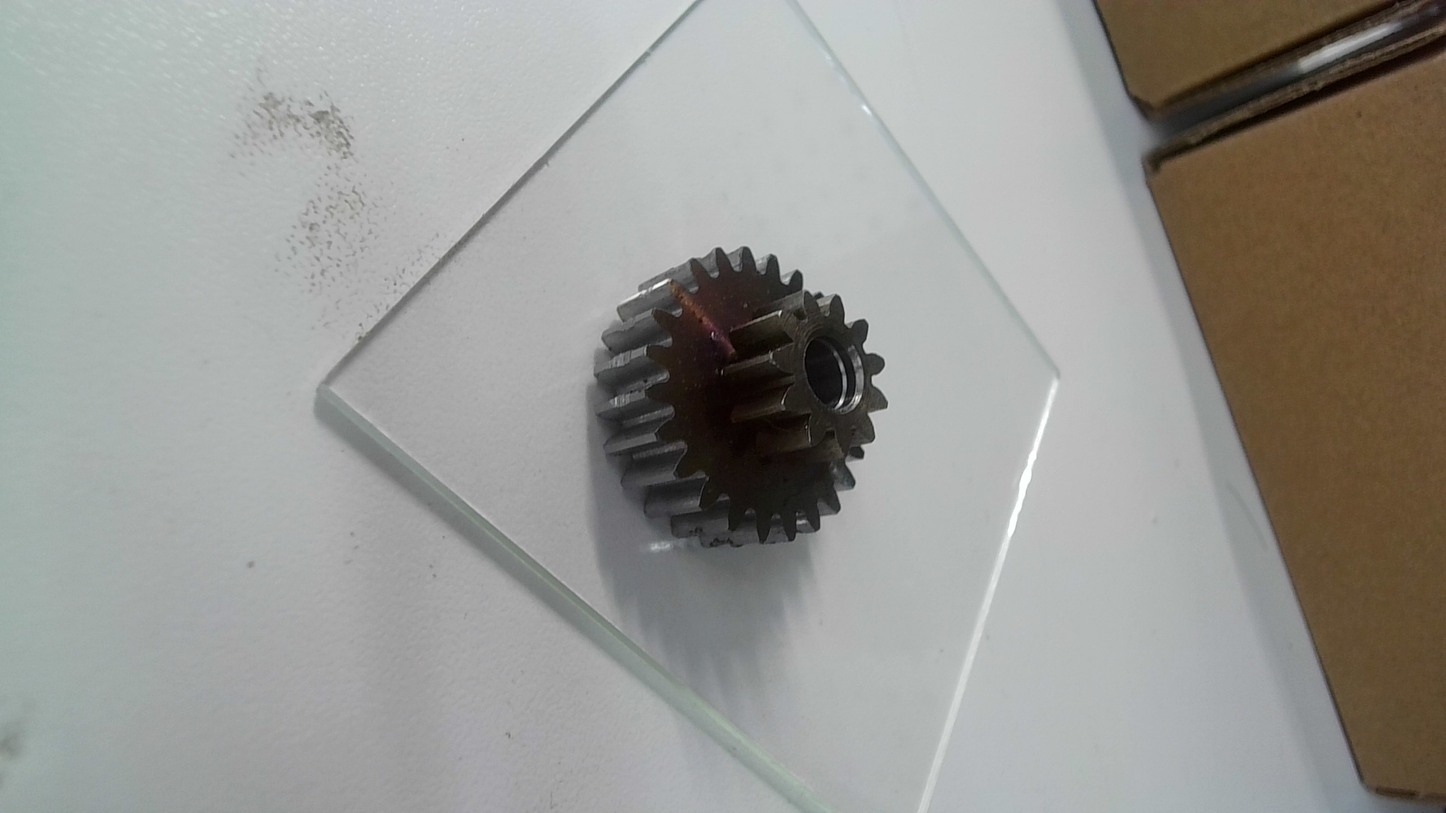gear: (577, 233, 900, 545)
